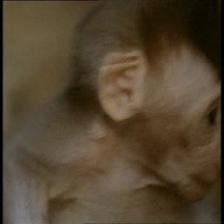monkey: (66, 3, 222, 206)
